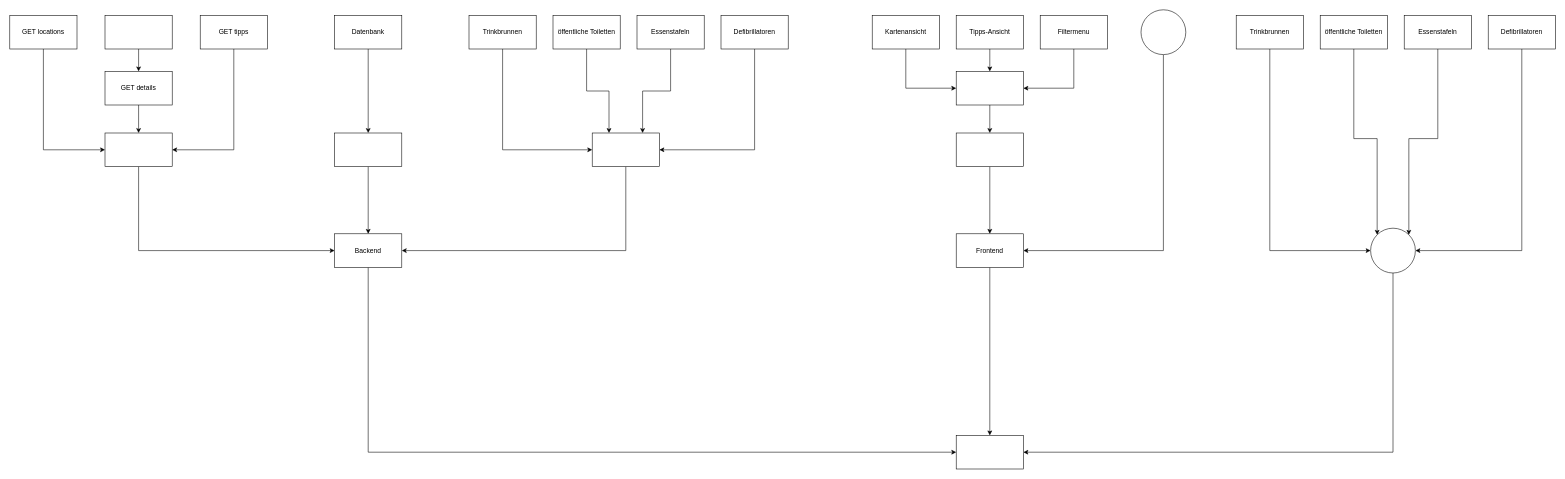
This 1565x479 diagram has some shape labels left out. The shapes that lost their labels are listed below. From the top down, each one's centre as x and y in pixels, then its label:
At [138,32]: "GET location".
At [1163,32]: "Karten-Provider".
At [989,88]: "Benutzeroberfläche".
At [138,149]: "REST-API".
At [368,149]: "Managment Webanwendung (DBMS)".
At [625,149]: "Data-Acquisition".
At [989,149]: "API-Abrufe".
At [1392,250]: "Daten".
At [989,452]: "Mapsential".
